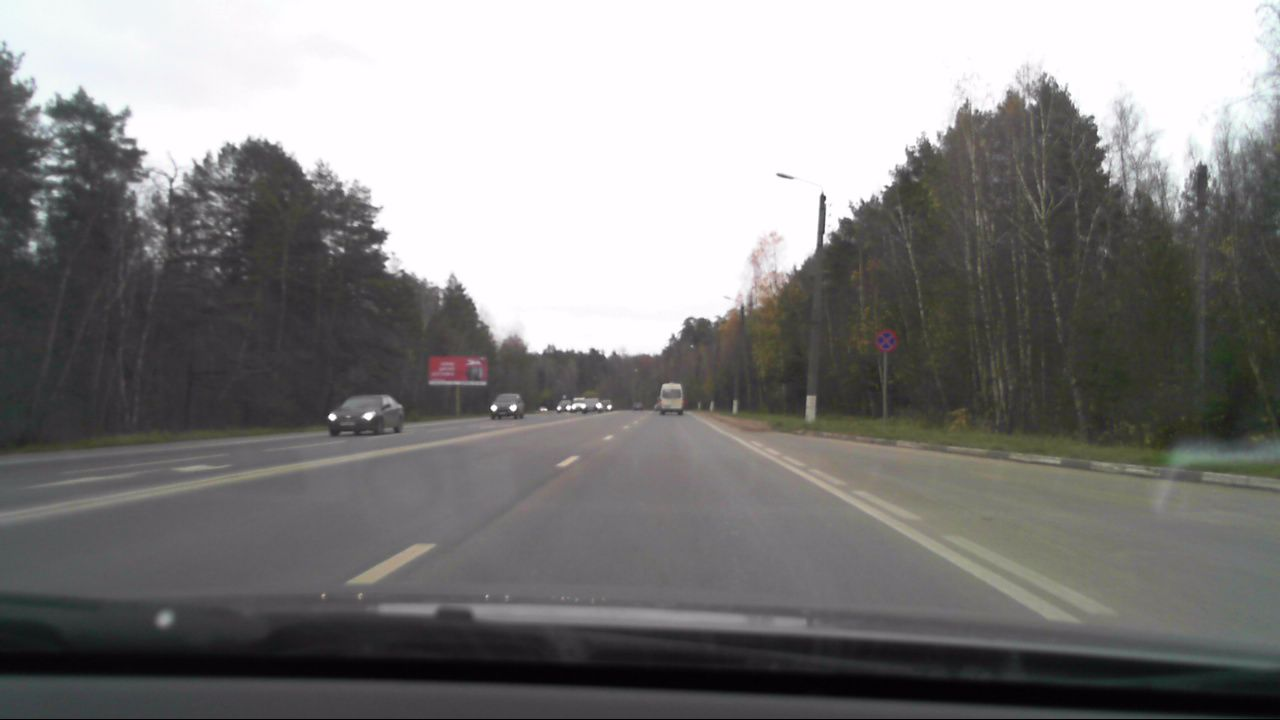No Parking: (875, 330, 897, 353)
